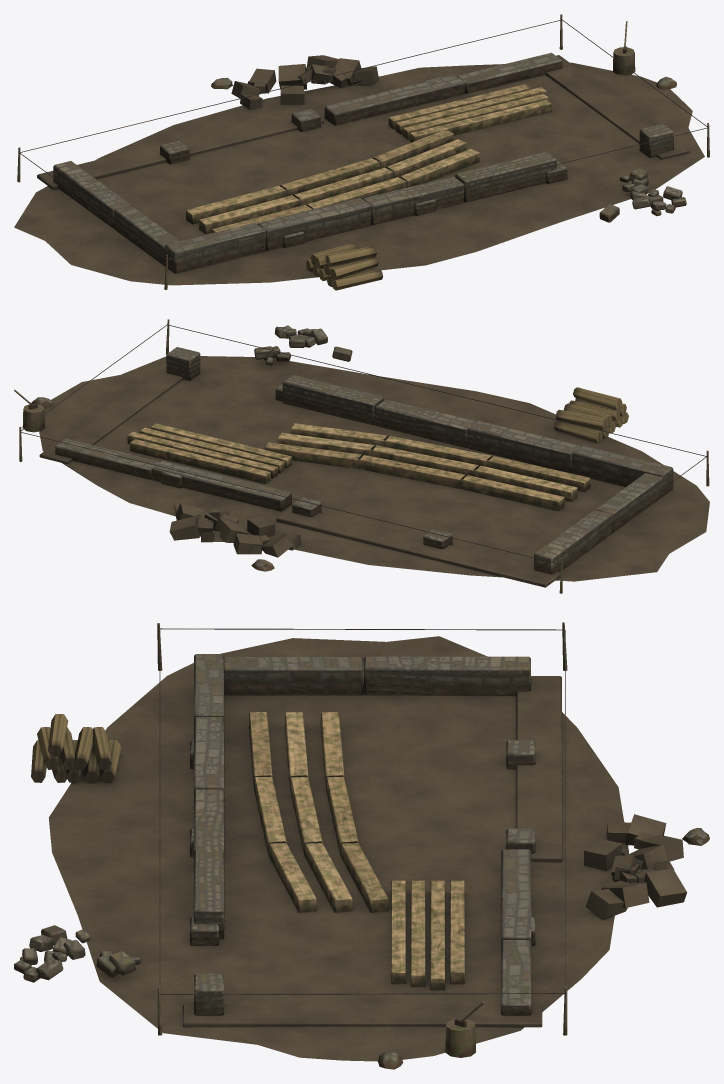
The model's file is house_a_build1.glb.
The picture shows the model from 3 angles, top to bottom: view 1: azimuth 30°, elevation 25°; view 2: azimuth 150°, elevation 25°; view 3: azimuth 270°, elevation 25°; orthographic projection. The views are drawn at different scales.
Parts seen in each view (by area): view 1: house_a_build1_LOD0; view 2: house_a_build1_LOD0; view 3: house_a_build1_LOD0.
Part boxes in pixels (<box>): house_a_build1_LOD0: <box>14,14,709,290</box>; house_a_build1_LOD0: <box>14,319,709,593</box>; house_a_build1_LOD0: <box>14,622,709,1069</box>.
Size of what is drawn, in the model's own units: 15.7 by 0.9618 by 10.65.
1 material, 1 textured.
